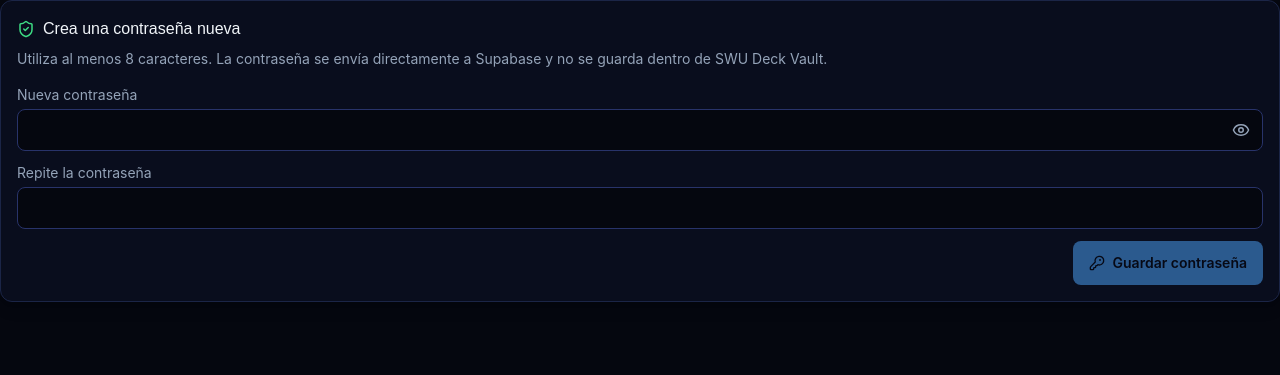
it: pantalla de cuenta › no envía dos contraseñas diferentes
Type "contraseña-segura" into the password field labelled "Nueva contraseña" at (640, 130), box [17,109,1263,151]
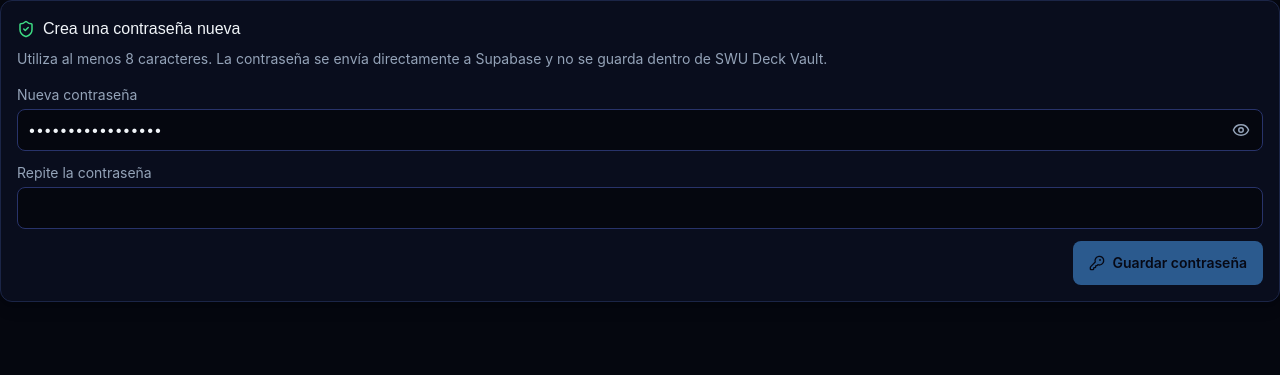
Type "otra-contraseña" into the password field labelled "Repite la contraseña" at (640, 208), box [17,187,1263,229]
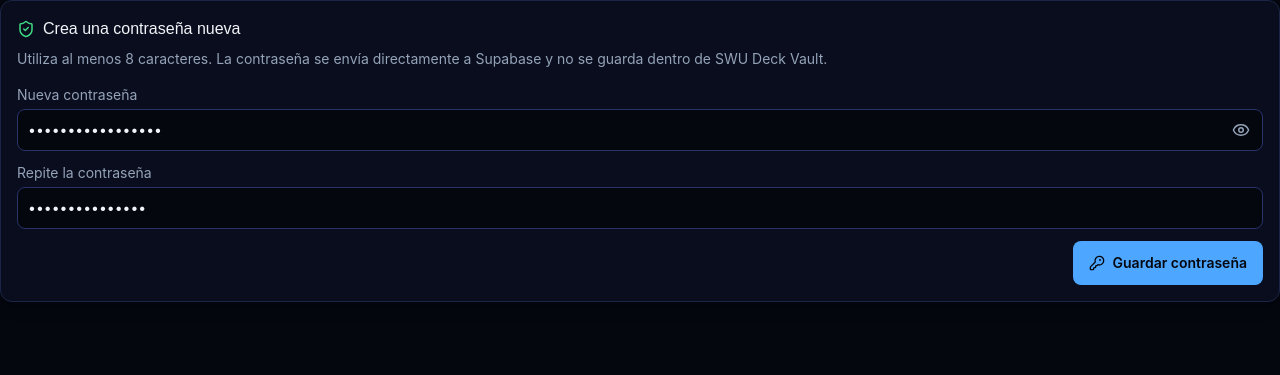
Click the button "Guardar contraseña" at (1168, 263), box [1073,241,1263,285]
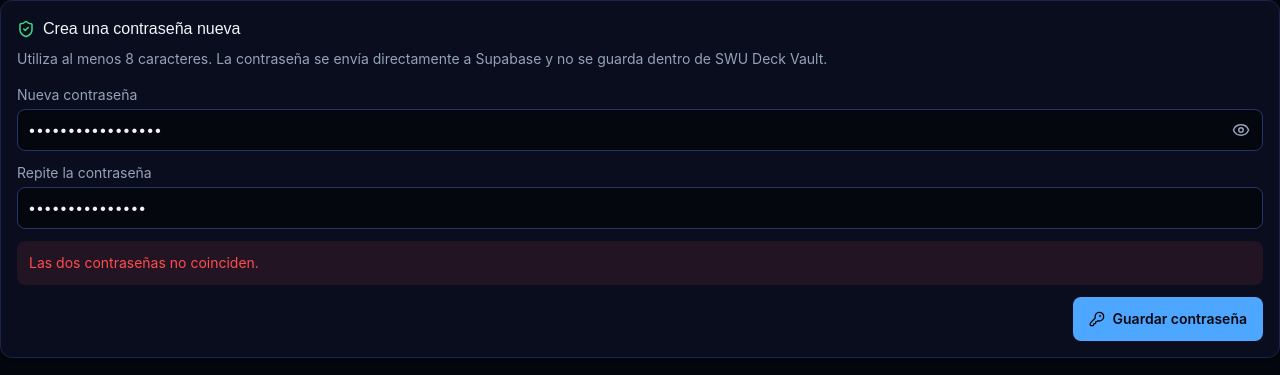
Now the message shows "no coinciden", box [29,254,259,271]
